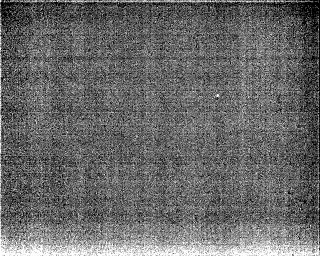BIRD: (214, 91, 222, 101)
